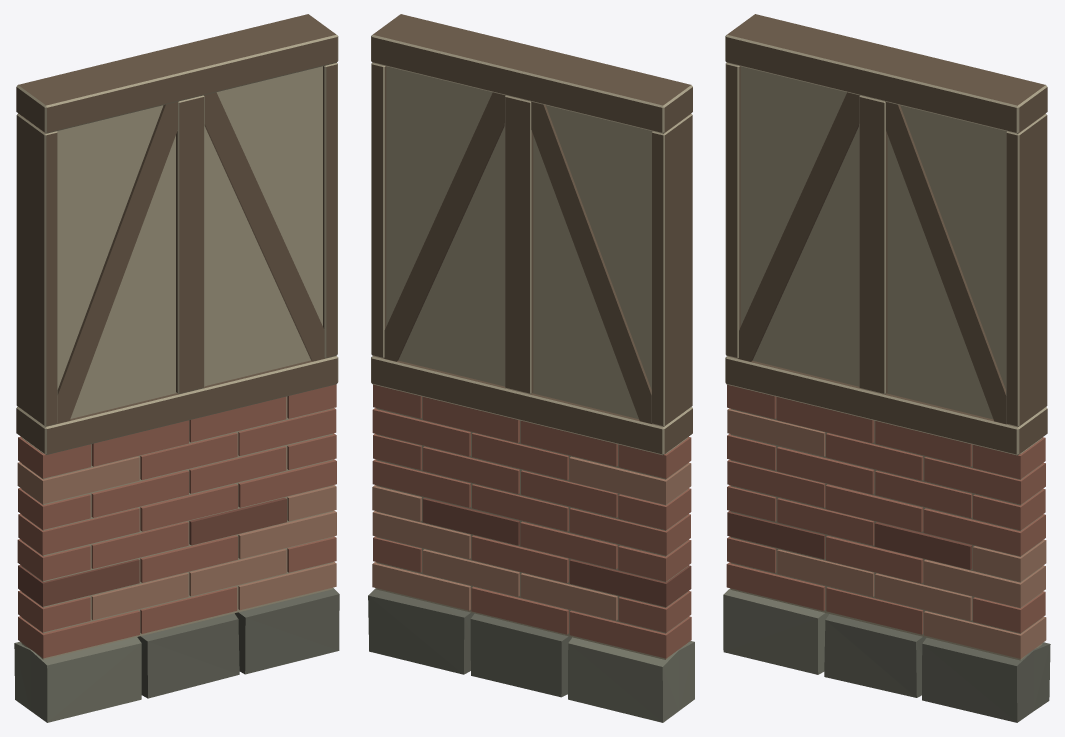
Rendered from wall_brick_timber.glb.
3 renders of one model, left to right at view 1: azimuth 30°, elevation 25°; view 2: azimuth 150°, elevation 25°; view 3: azimuth 330°, elevation 25°, orthographic.
Visible parts, largest first — view 1: Wall_Brick_Timber; view 2: Wall_Brick_Timber; view 3: Wall_Brick_Timber.
Boxes of the visible parts, left/top/right/bottom form: Wall_Brick_Timber: left=14, top=14, right=339, bottom=722; Wall_Brick_Timber: left=368, top=14, right=694, bottom=722; Wall_Brick_Timber: left=723, top=14, right=1050, bottom=722.
Bounding box in the file's own units: 1.52 × 3.05 × 0.2944.
